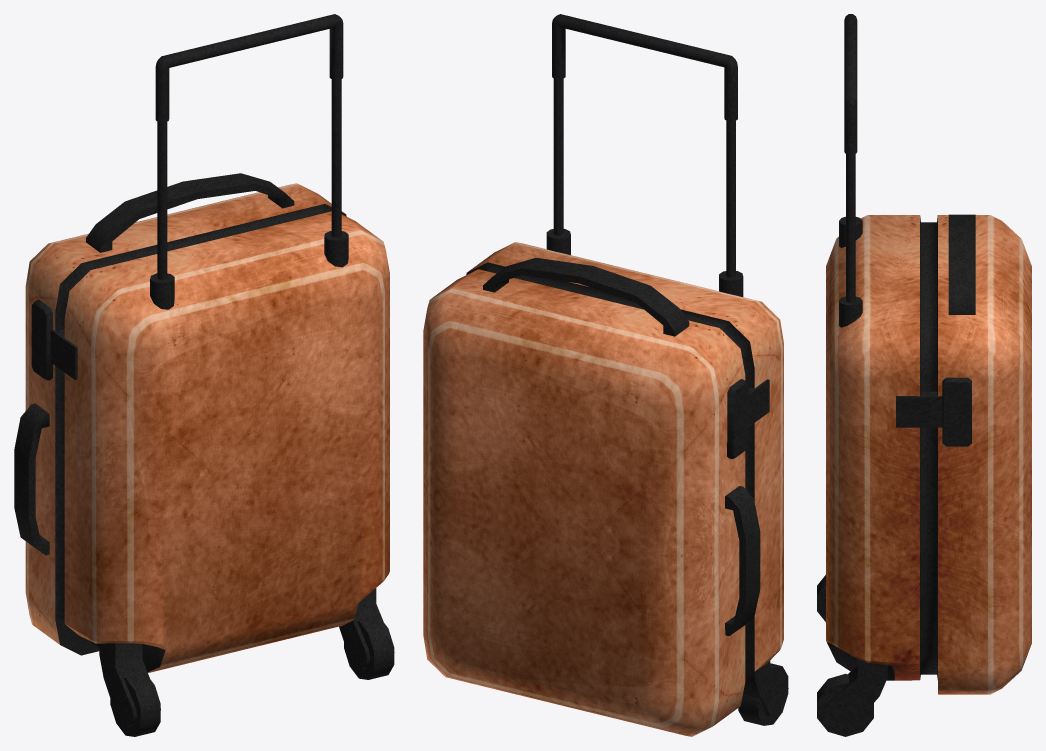
Rendered from suitcase_8.fbx.
3 renders of one model, left to right at view 1: azimuth 30°, elevation 25°; view 2: azimuth 150°, elevation 25°; view 3: azimuth 270°, elevation 25°, orthographic. The views are drawn at different scales.
Visible parts, largest first — view 1: suitcase_8; view 2: suitcase_8; view 3: suitcase_8.
Boxes of the visible parts, bbox=[...] form: suitcase_8: bbox=[14, 14, 394, 736]; suitcase_8: bbox=[423, 14, 788, 736]; suitcase_8: bbox=[817, 14, 1031, 736].
Bounding box in the file's own units: 0.7382 × 1.46 × 0.4539.
